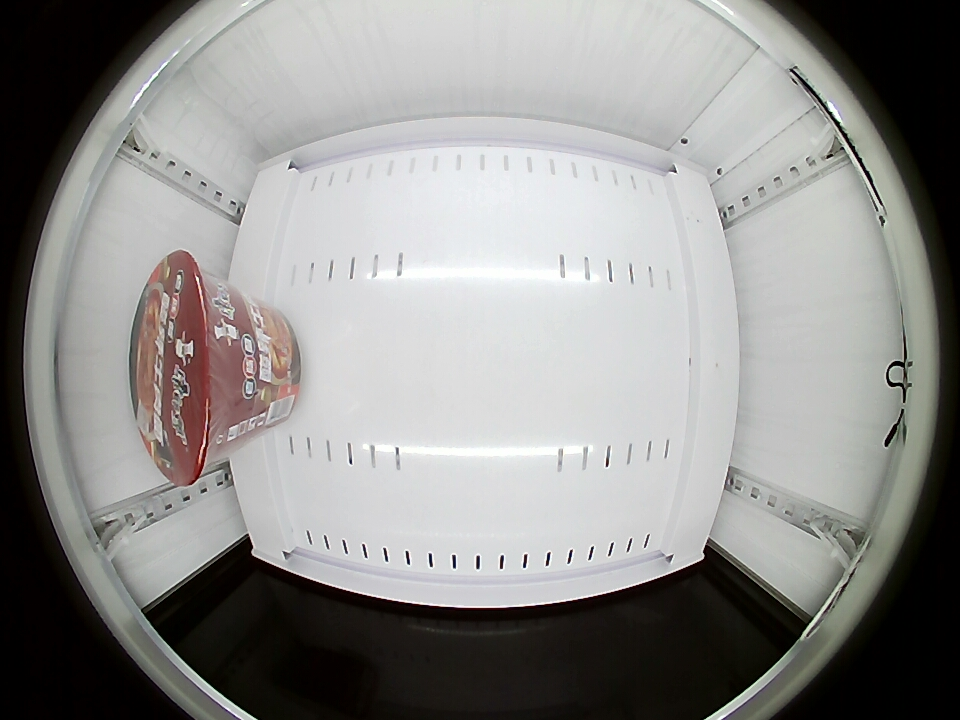suanlaniurou: (131, 252, 262, 485)
